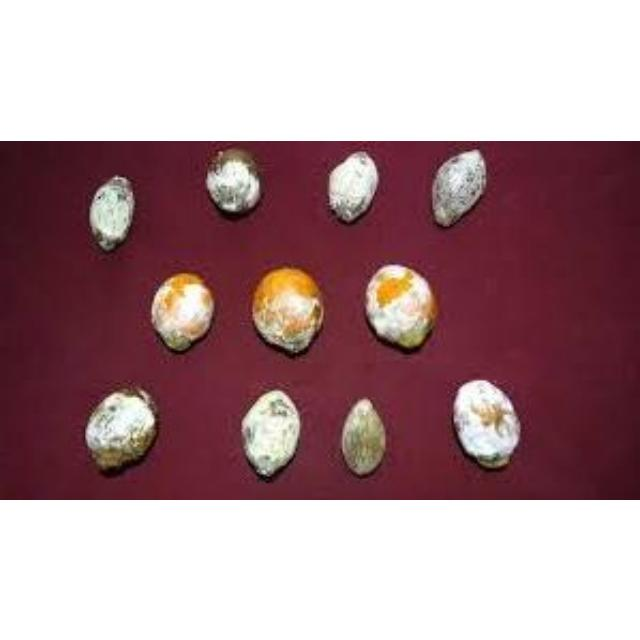damaged: (362, 262, 438, 348), (250, 266, 324, 352), (85, 386, 157, 472), (452, 379, 520, 467), (150, 269, 214, 349), (242, 390, 300, 476), (431, 148, 487, 226), (204, 145, 262, 213), (326, 148, 378, 222), (88, 173, 136, 250), (341, 397, 387, 475)
